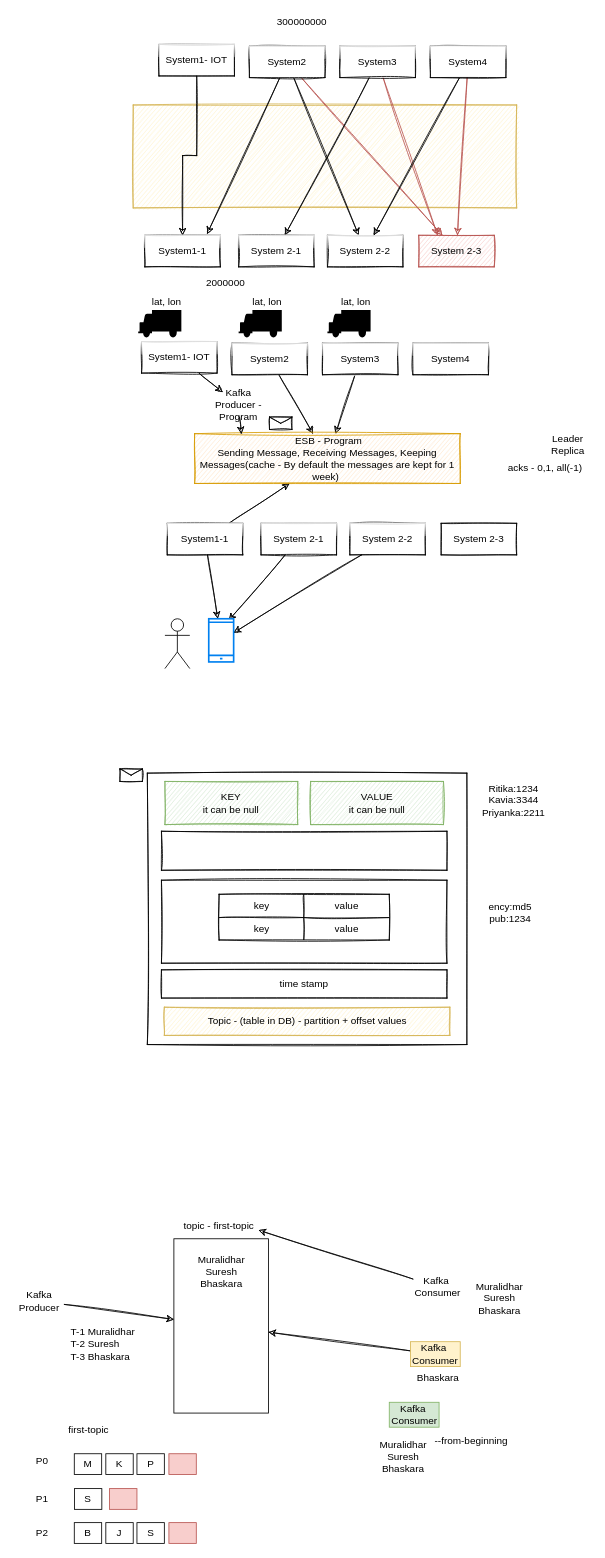
Image size: 605x1558. Some labels were removed from this diagram. The centre of each missing label's shape, as x and y in pixels:
actuals, or zip -compression mechanism, gzip, snappy, zstd...: [304,850]
Jitendra: [177,643]
